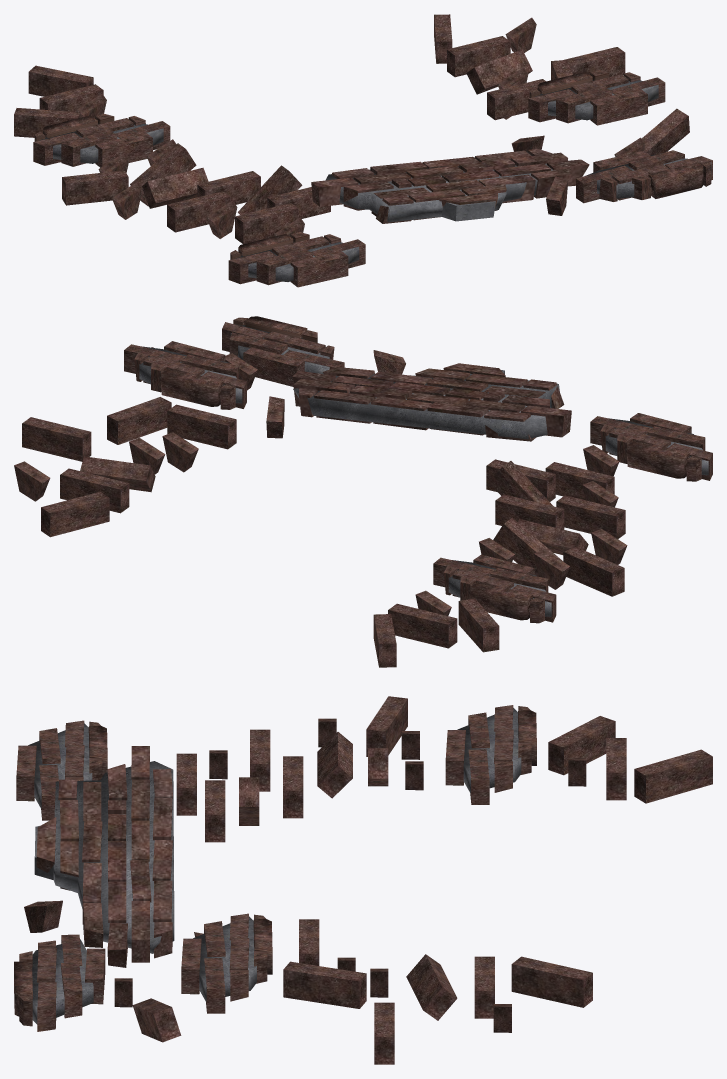
The model's file is gully_basementwall_rig.glb.
3 views of the same model, one above another, from view 1: azimuth 30°, elevation 25°; view 2: azimuth 150°, elevation 25°; view 3: azimuth 270°, elevation 25° (orthographic). The views are drawn at different scales.
Size of the model in its own units: 88.69 by 10.98 by 76.85.
Materials: 2 (2 with a texture image).
